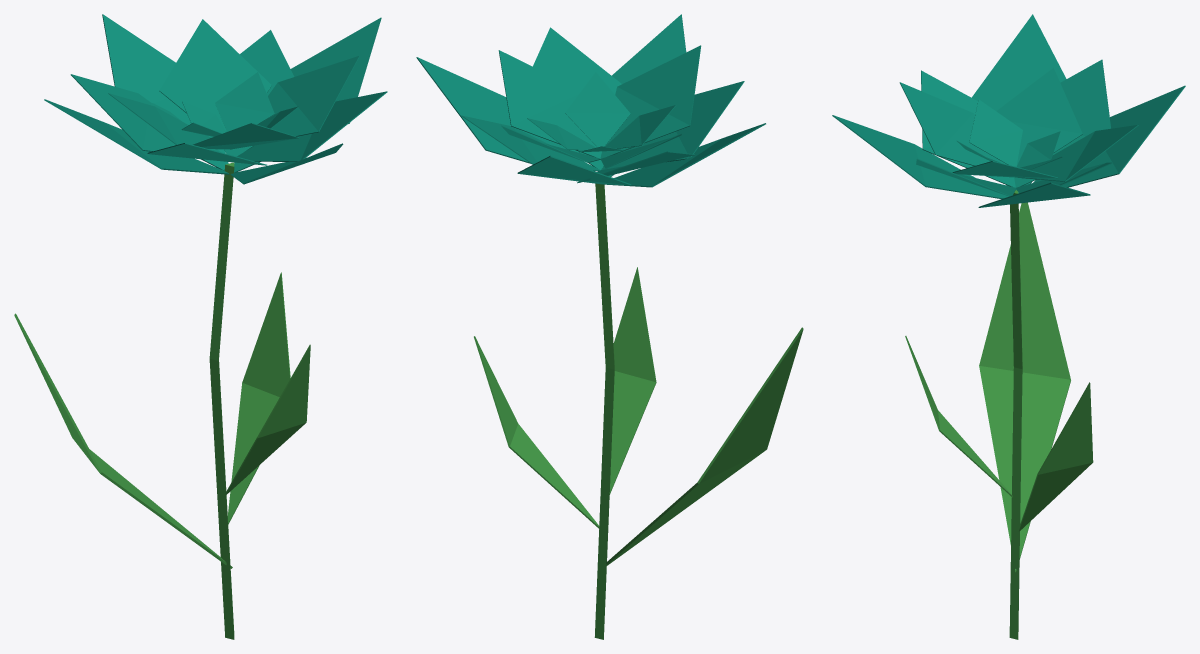
The model's file is blue_flower1.obj.
3 views of the same model, side by side, from view 1: azimuth 30°, elevation 25°; view 2: azimuth 150°, elevation 25°; view 3: azimuth 270°, elevation 25° (orthographic). The views are drawn at different scales.
Bounding box in the file's own units: 2.29 × 3.3 × 1.95.
